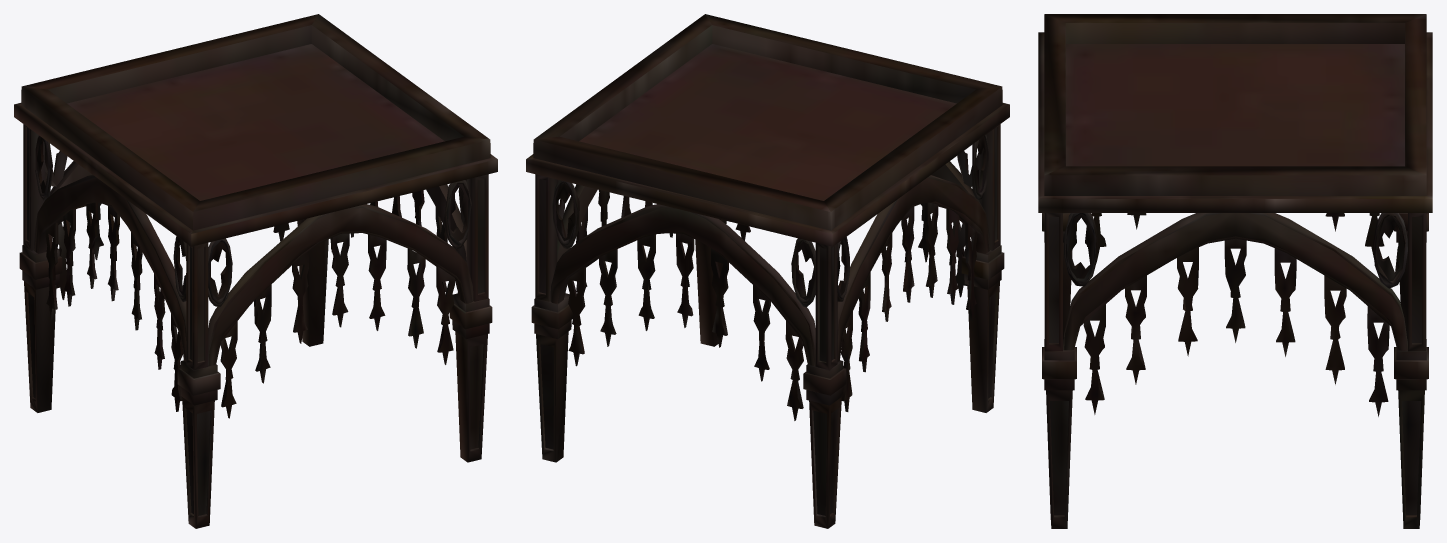
File: ph-gothic-coffee-table.glb
The picture shows the model from 3 angles, left to right: view 1: azimuth 30°, elevation 25°; view 2: azimuth 150°, elevation 25°; view 3: azimuth 270°, elevation 25°; orthographic projection. The views are drawn at different scales.
Parts seen in each view (by area): view 1: gothic_coffee_table; view 2: gothic_coffee_table; view 3: gothic_coffee_table.
Boxes of the visible parts, x1,y1,x2,y2 form: gothic_coffee_table: [14, 14, 497, 528]; gothic_coffee_table: [526, 14, 1009, 528]; gothic_coffee_table: [1038, 14, 1432, 528].
Size of the model in its own units: 0.9978 by 0.9966 by 0.9978.
Materials: 1 (1 with a texture image).
